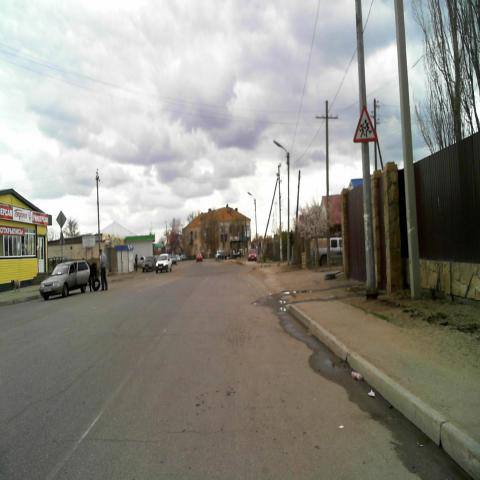1_23: (353, 104, 377, 142)
